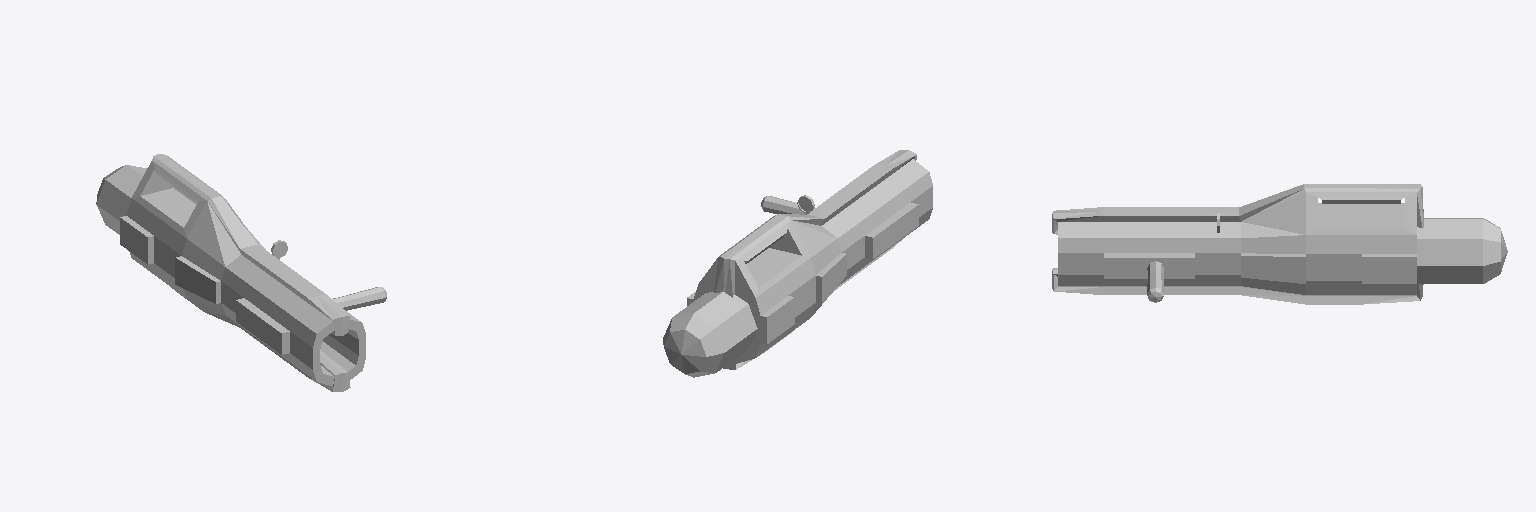
The model's file is ExtinguisherV1.obj.
The picture shows the model from 3 angles: view 1: azimuth 30°, elevation 25°; view 2: azimuth 150°, elevation 25°; view 3: azimuth 270°, elevation 25°; orthographic projection.
Visible parts, largest first — view 1: extinguisher_GEO ext_Body_GEO, ext_Canister_GEO extinguisher_GEO, extinguisher_GEO ext_Handle_GEO; view 2: extinguisher_GEO ext_Body_GEO, ext_Canister_GEO extinguisher_GEO, extinguisher_GEO ext_Handle_GEO; view 3: extinguisher_GEO ext_Body_GEO, ext_Canister_GEO extinguisher_GEO, extinguisher_GEO ext_Handle_GEO.
Part boxes in pixels (left/top/right/bottom): extinguisher_GEO ext_Body_GEO: left=120, top=154, right=365, bottom=391; ext_Canister_GEO extinguisher_GEO: left=96, top=165, right=146, bottom=234; extinguisher_GEO ext_Handle_GEO: left=332, top=287, right=386, bottom=310; extinguisher_GEO ext_Body_GEO: left=687, top=150, right=932, bottom=369; ext_Canister_GEO extinguisher_GEO: left=663, top=292, right=757, bottom=377; extinguisher_GEO ext_Handle_GEO: left=761, top=196, right=814, bottom=214; extinguisher_GEO ext_Body_GEO: left=1052, top=184, right=1423, bottom=304; ext_Canister_GEO extinguisher_GEO: left=1417, top=218, right=1507, bottom=283; extinguisher_GEO ext_Handle_GEO: left=1147, top=261, right=1163, bottom=302.
Size of the model in its own units: 23.5 by 18.81 by 68.73.